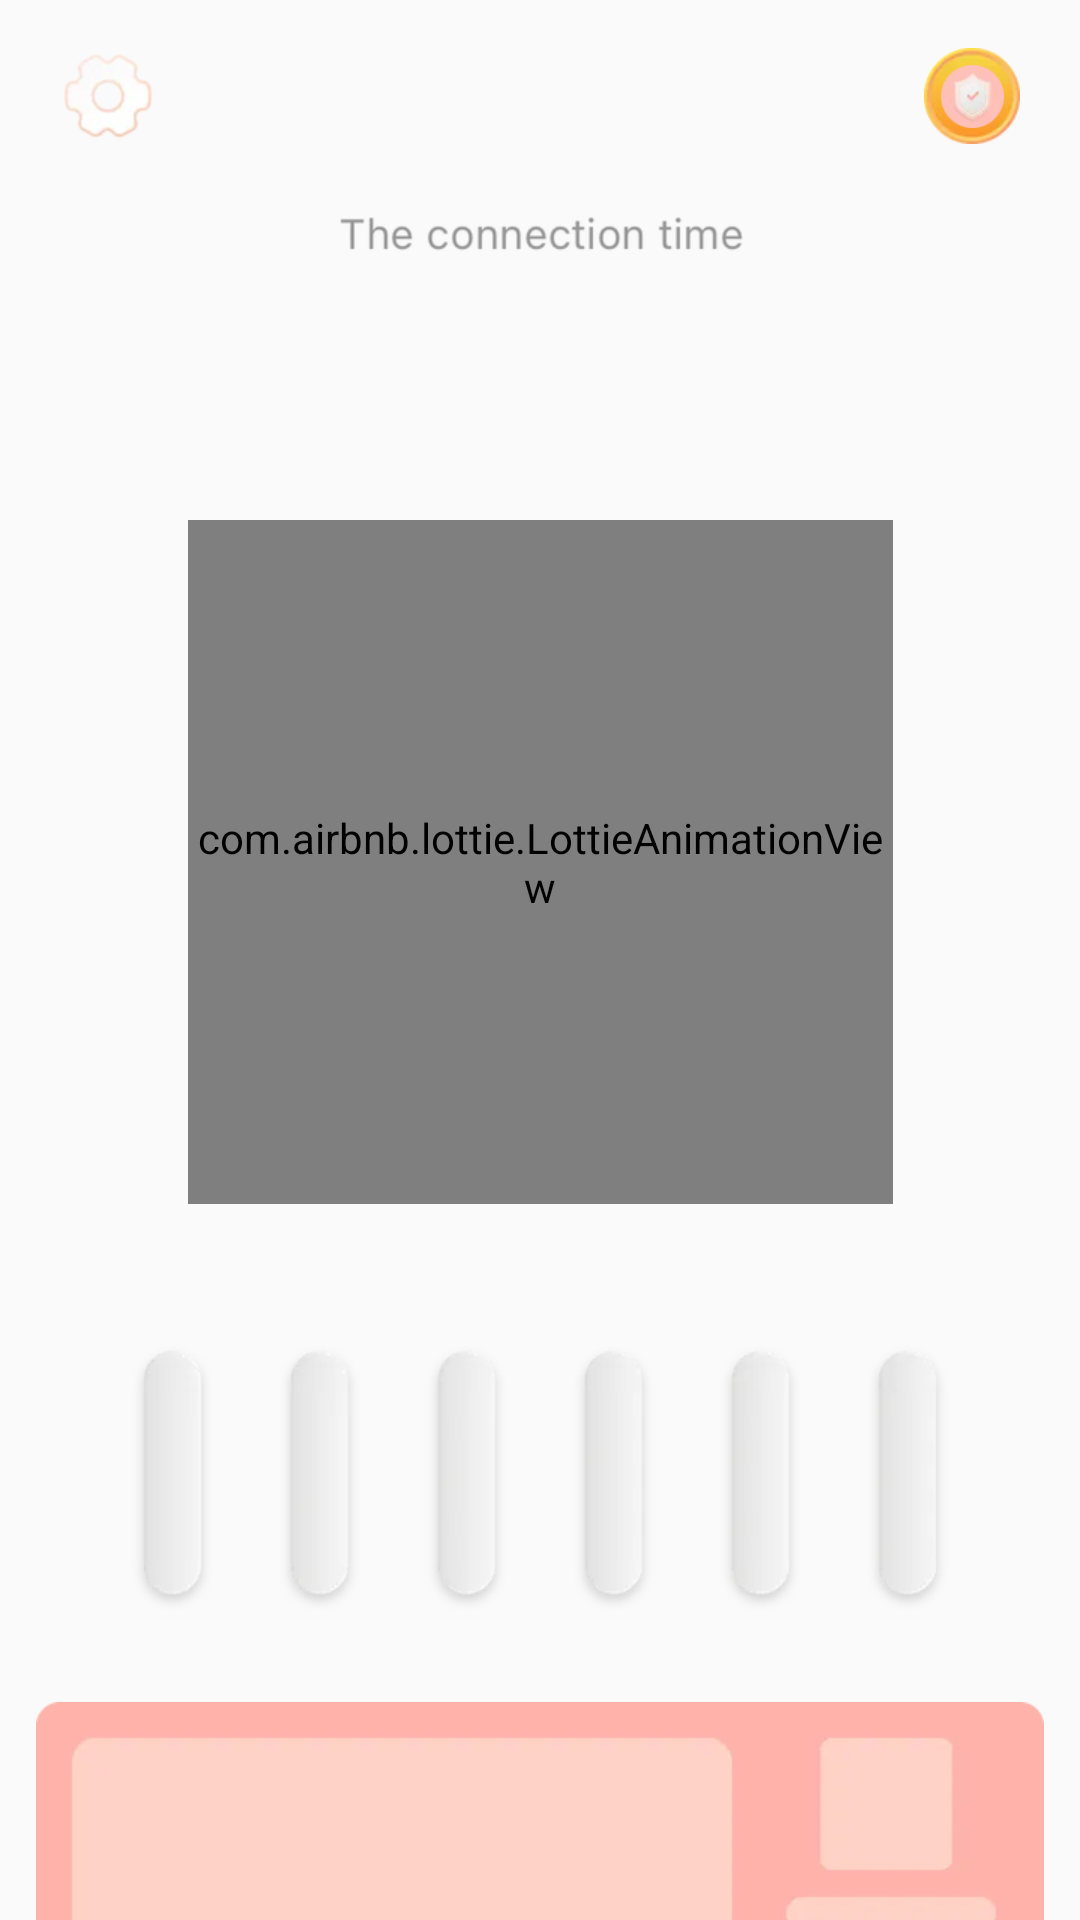

Icon click points for this 1080×1920 phone screenshot, format [x,y]:
set main: [108,96]
